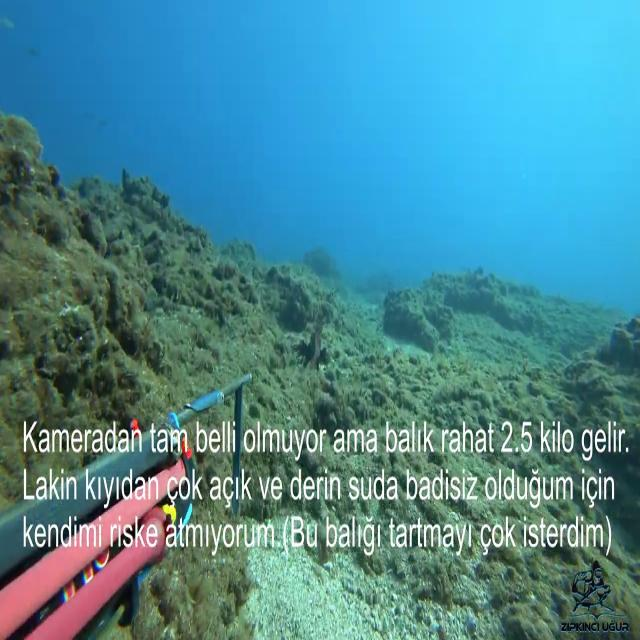Aslan Baligi: (291, 305, 335, 377)
